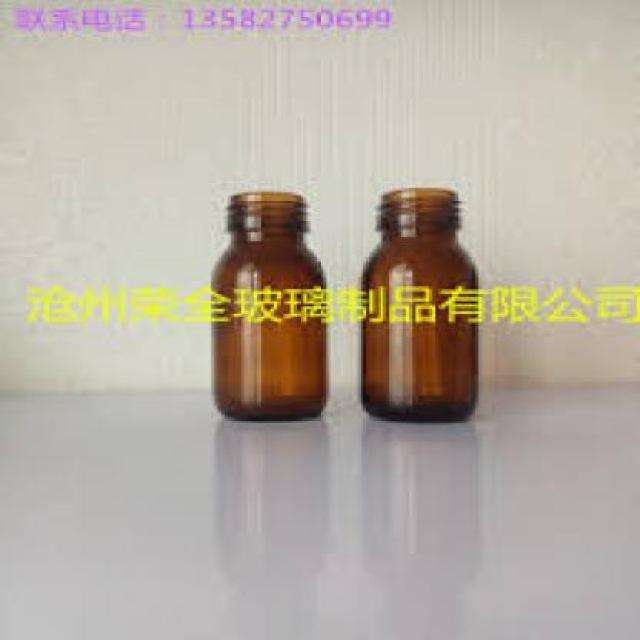kaca: (350, 188, 476, 420), (208, 191, 326, 420)
